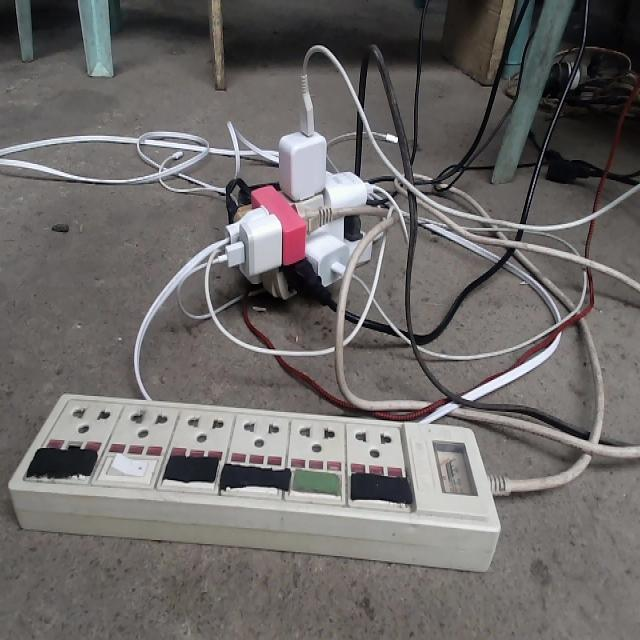-: (213, 64, 398, 308)
